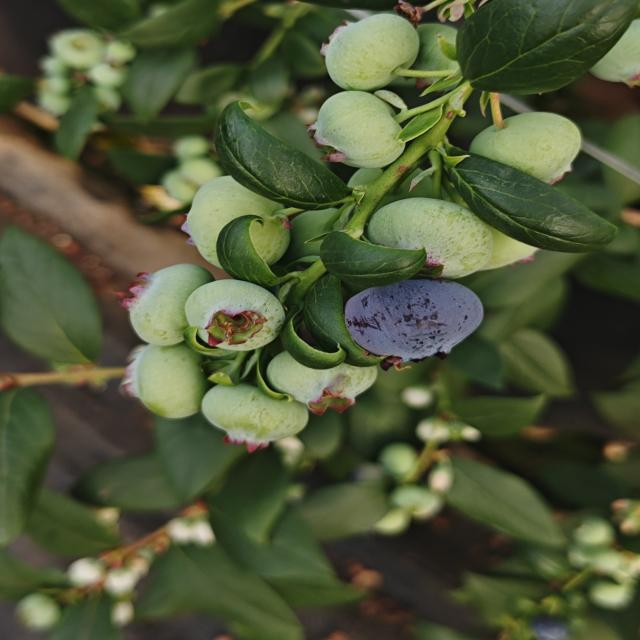ripe: (334, 275, 496, 369)
